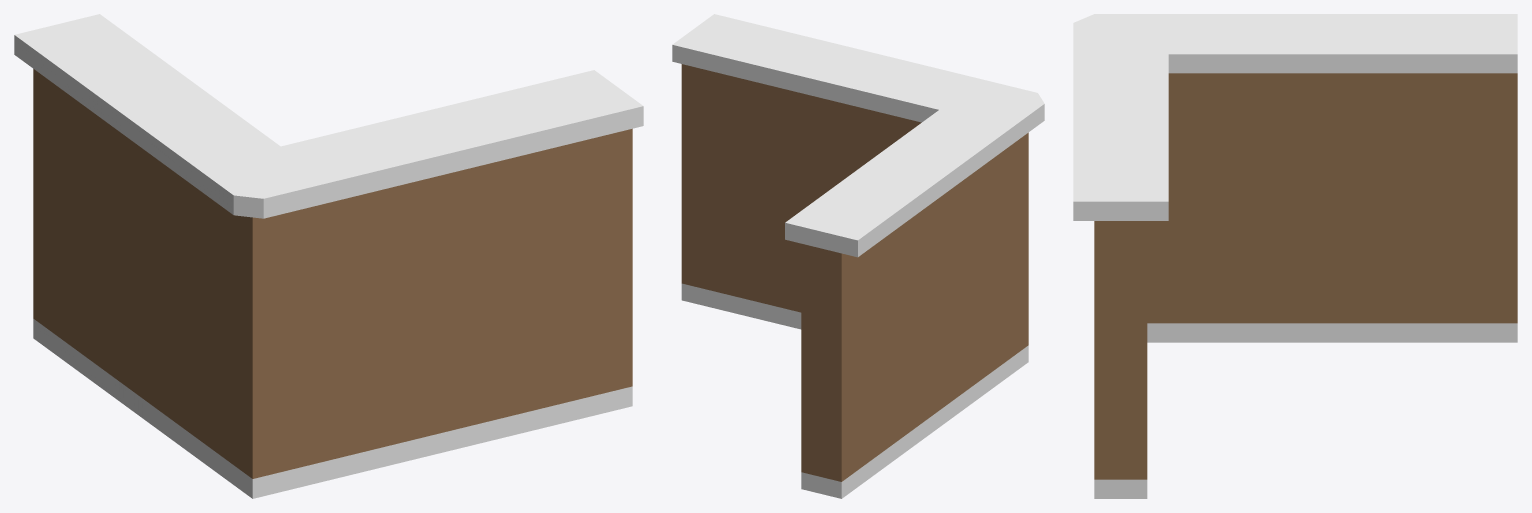
Rendered from SM_200x150_HalfWall_Corner.fbx.
3 renders of one model, left to right at view 1: azimuth 30°, elevation 25°; view 2: azimuth 150°, elevation 25°; view 3: azimuth 270°, elevation 25°, orthographic. The views are drawn at different scales.
Parts seen in each view (by area): view 1: SM_200x150_HalfWall_Corner; view 2: SM_200x150_HalfWall_Corner; view 3: SM_200x150_HalfWall_Corner.
Part boxes in pixels (x1,y1,x2,y2): SM_200x150_HalfWall_Corner: (14,14,643,498); SM_200x150_HalfWall_Corner: (672,14,1044,498); SM_200x150_HalfWall_Corner: (1073,14,1517,498).
Size of what is drawn, in the model's own units: 210 by 210 by 155.
